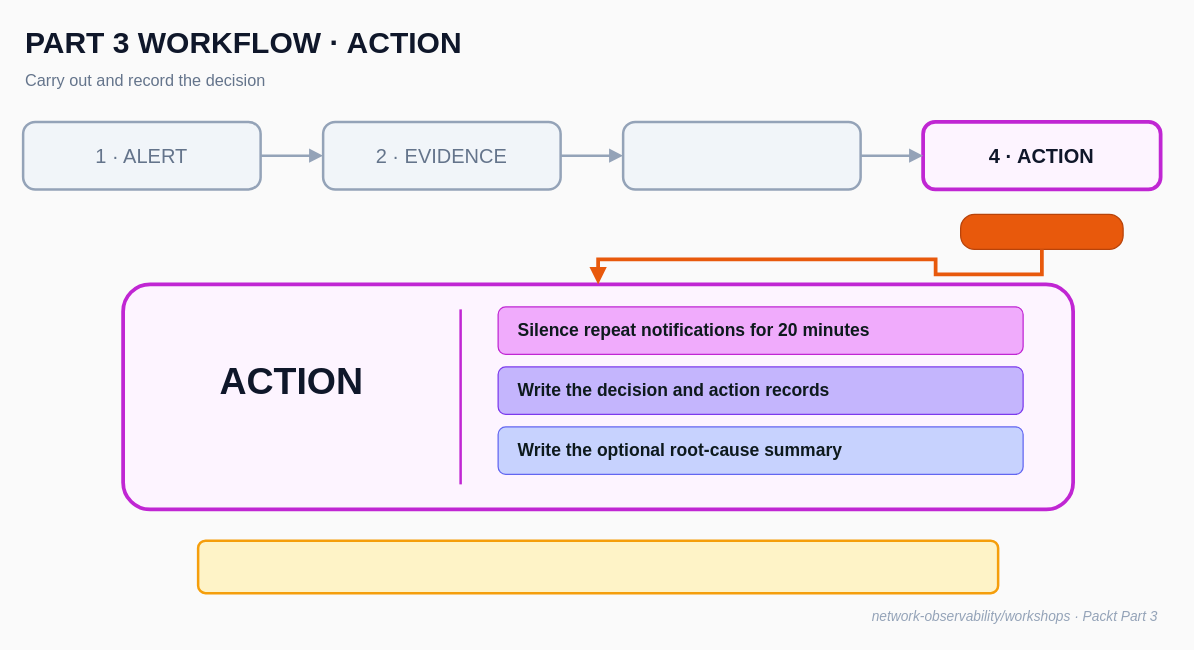
The diagram is 1194 pixels wide and 650 high, and some of its shapes have lost their labels. Each missing label, with the centre of its shape:
"3 · DECISION" goes at point (741, 155).
"This workflow records and quiets the alert; it does not repair the peer." goes at point (597, 566).
"YOU ARE HERE" goes at point (1041, 231).
